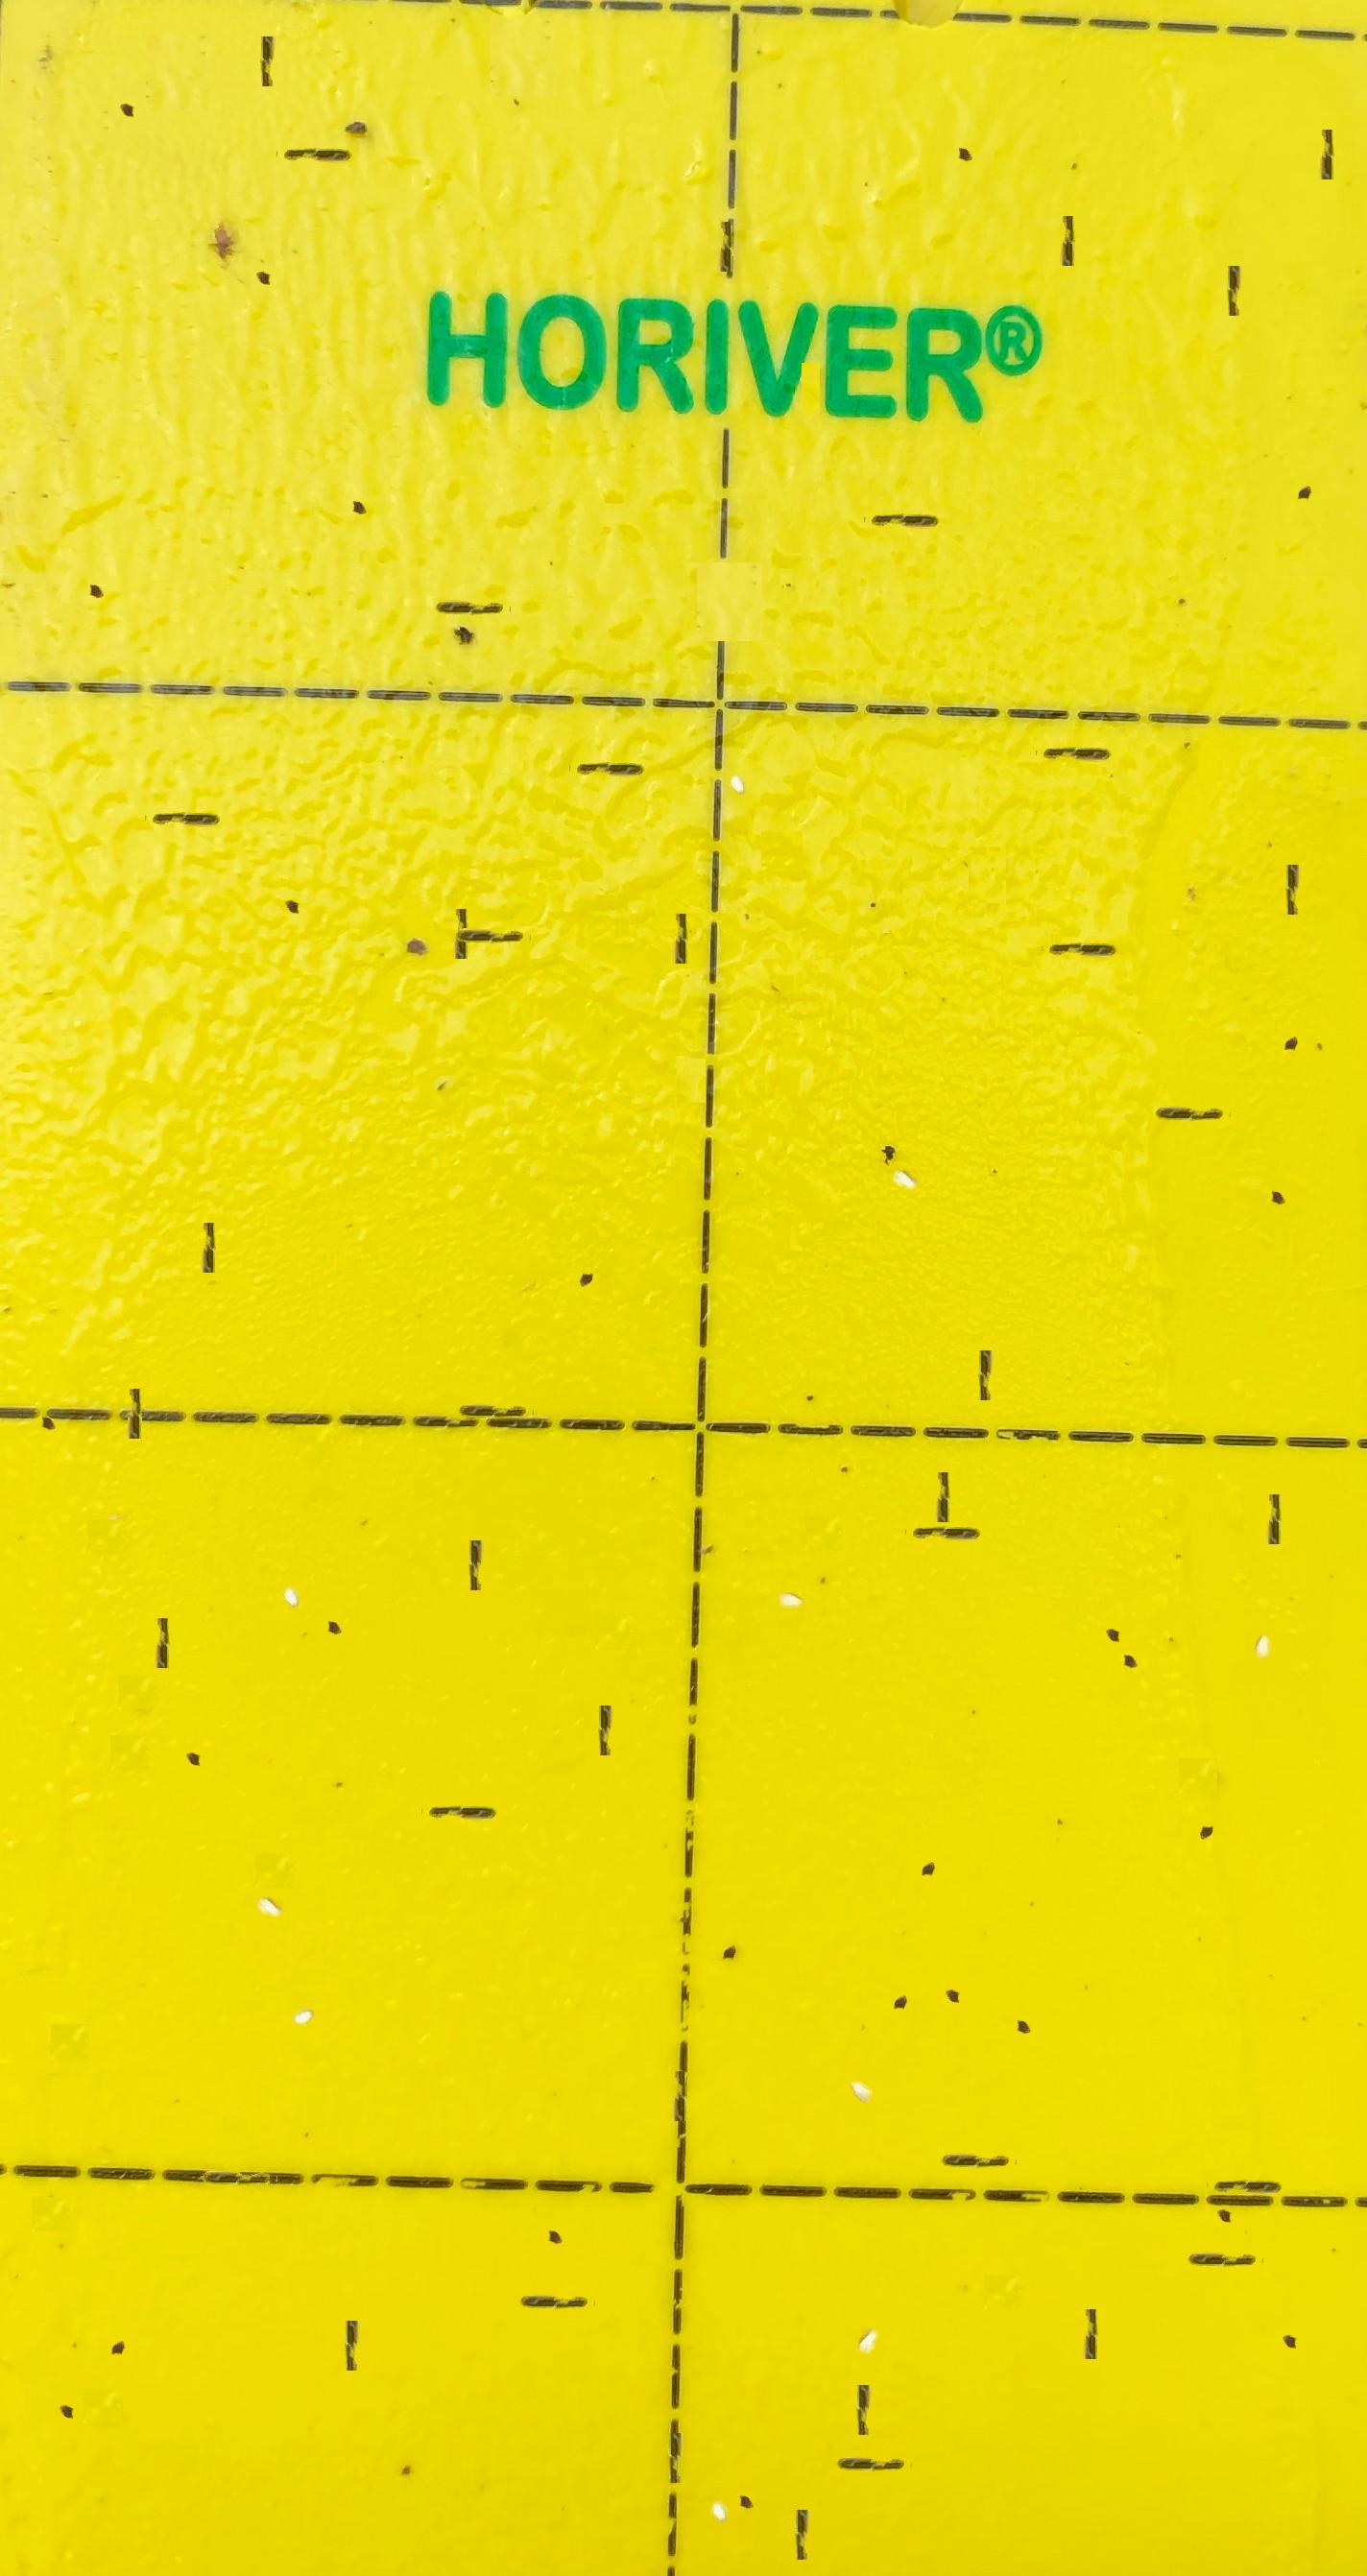white_fly: (699, 2438, 741, 2487), (281, 1944, 324, 1992), (271, 1525, 314, 1573), (718, 710, 758, 760), (849, 2276, 891, 2322), (881, 1113, 924, 1159), (245, 1840, 288, 1886), (840, 2027, 883, 2072), (769, 1542, 810, 1579), (1241, 1591, 1282, 1629)
